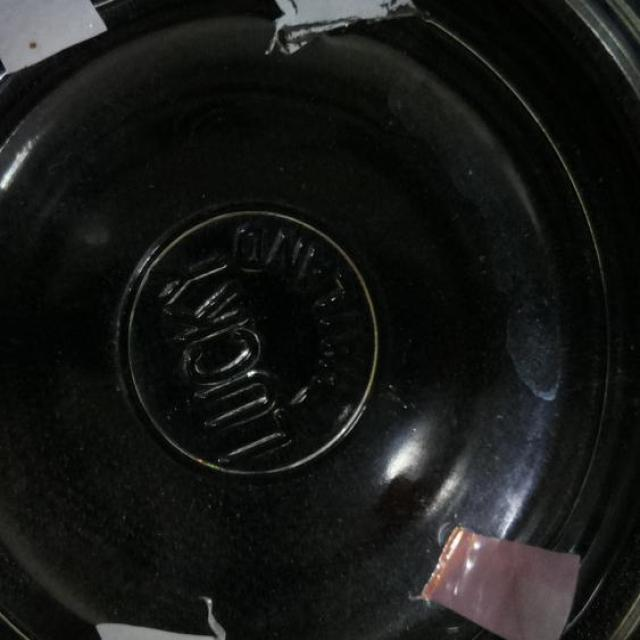fiber: (418, 527, 589, 639), (212, 0, 422, 45), (0, 0, 117, 76)
